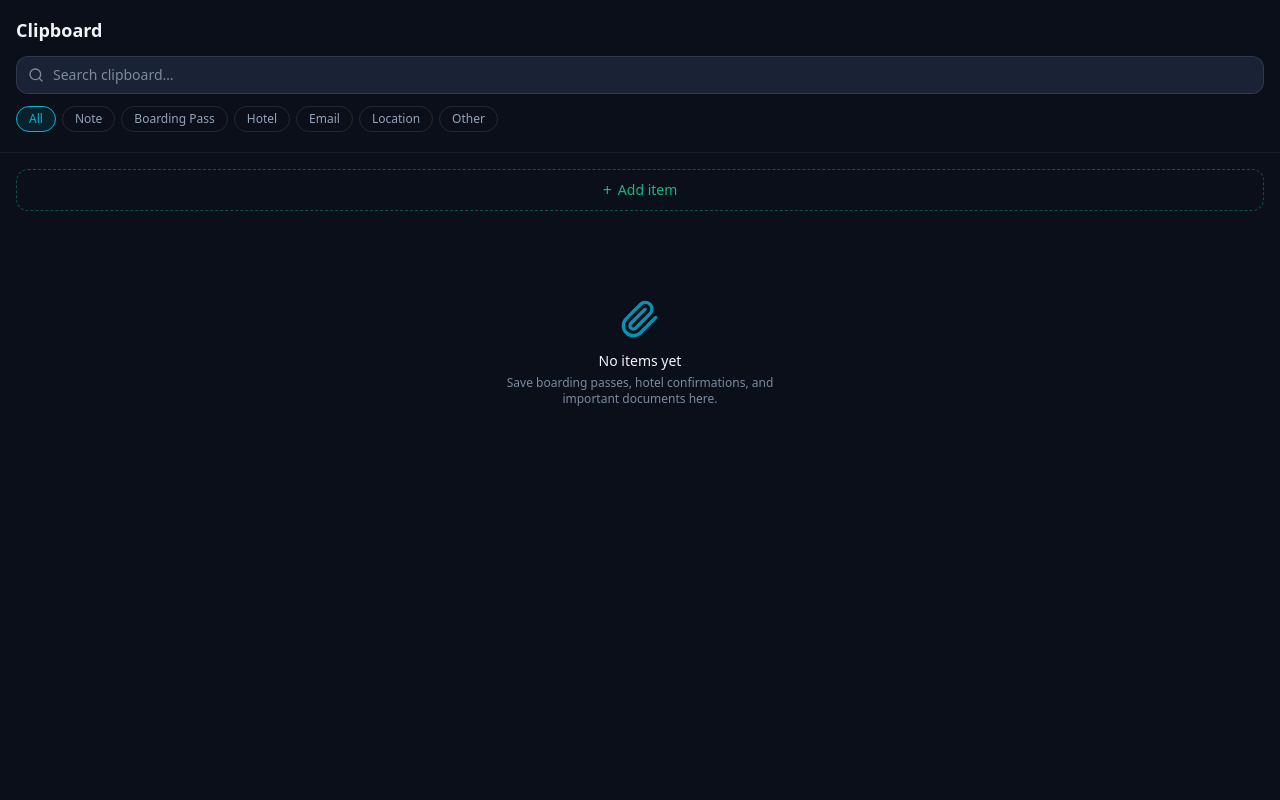
adding a clipboard item › says Save, like the other two
Click the button with test id "add-item-btn": (640, 190) [16,169,1264,211]
(page scrolled)
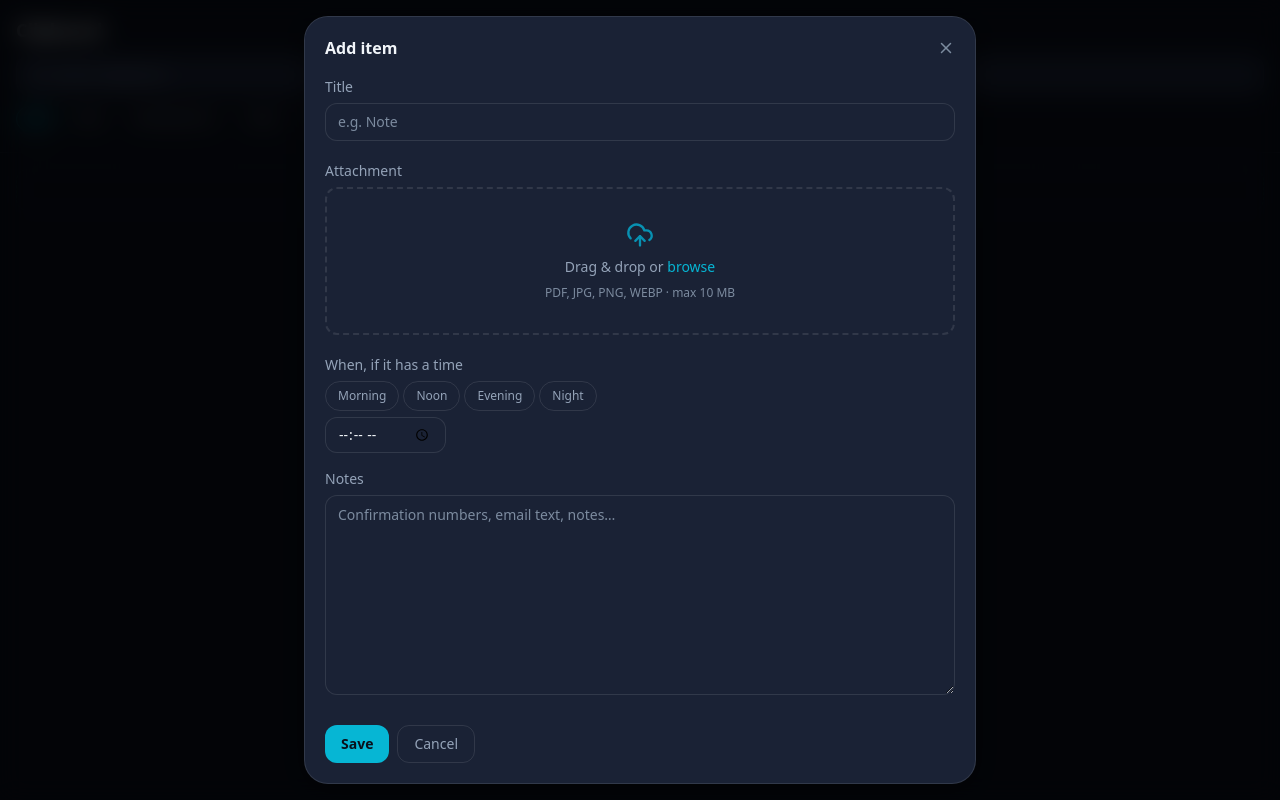
Check: the button with test id "save-item-btn" reads "Save", box [325,725,389,763]
